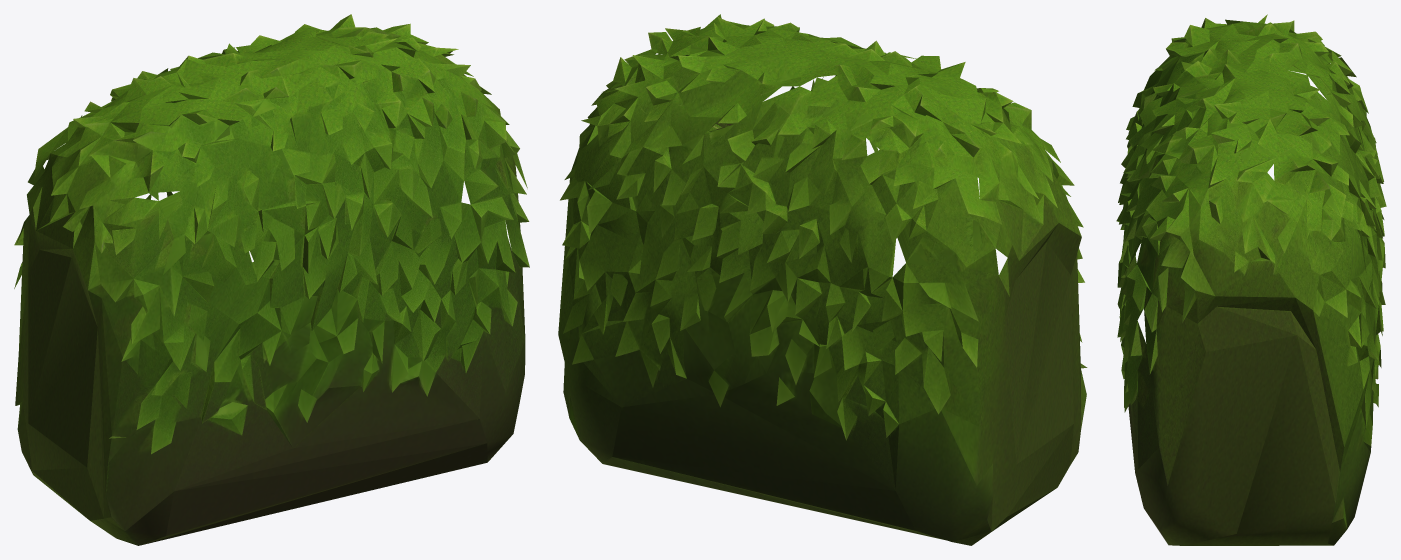
The model's file is hedge_end.glb.
The picture shows the model from 3 angles, left to right: view 1: azimuth 30°, elevation 25°; view 2: azimuth 150°, elevation 25°; view 3: azimuth 270°, elevation 25°; orthographic projection. The views are drawn at different scales.
Visible parts, largest first — view 1: geometry_0; view 2: geometry_0; view 3: geometry_0.
Part boxes in pixels (x1,y1,x2,y2): geometry_0: (14, 14, 529, 545); geometry_0: (558, 14, 1087, 545); geometry_0: (1116, 14, 1386, 545).
Size of the model in its own units: 1.65 by 1.5 by 0.92.
Materials: 1 (1 with a texture image).
